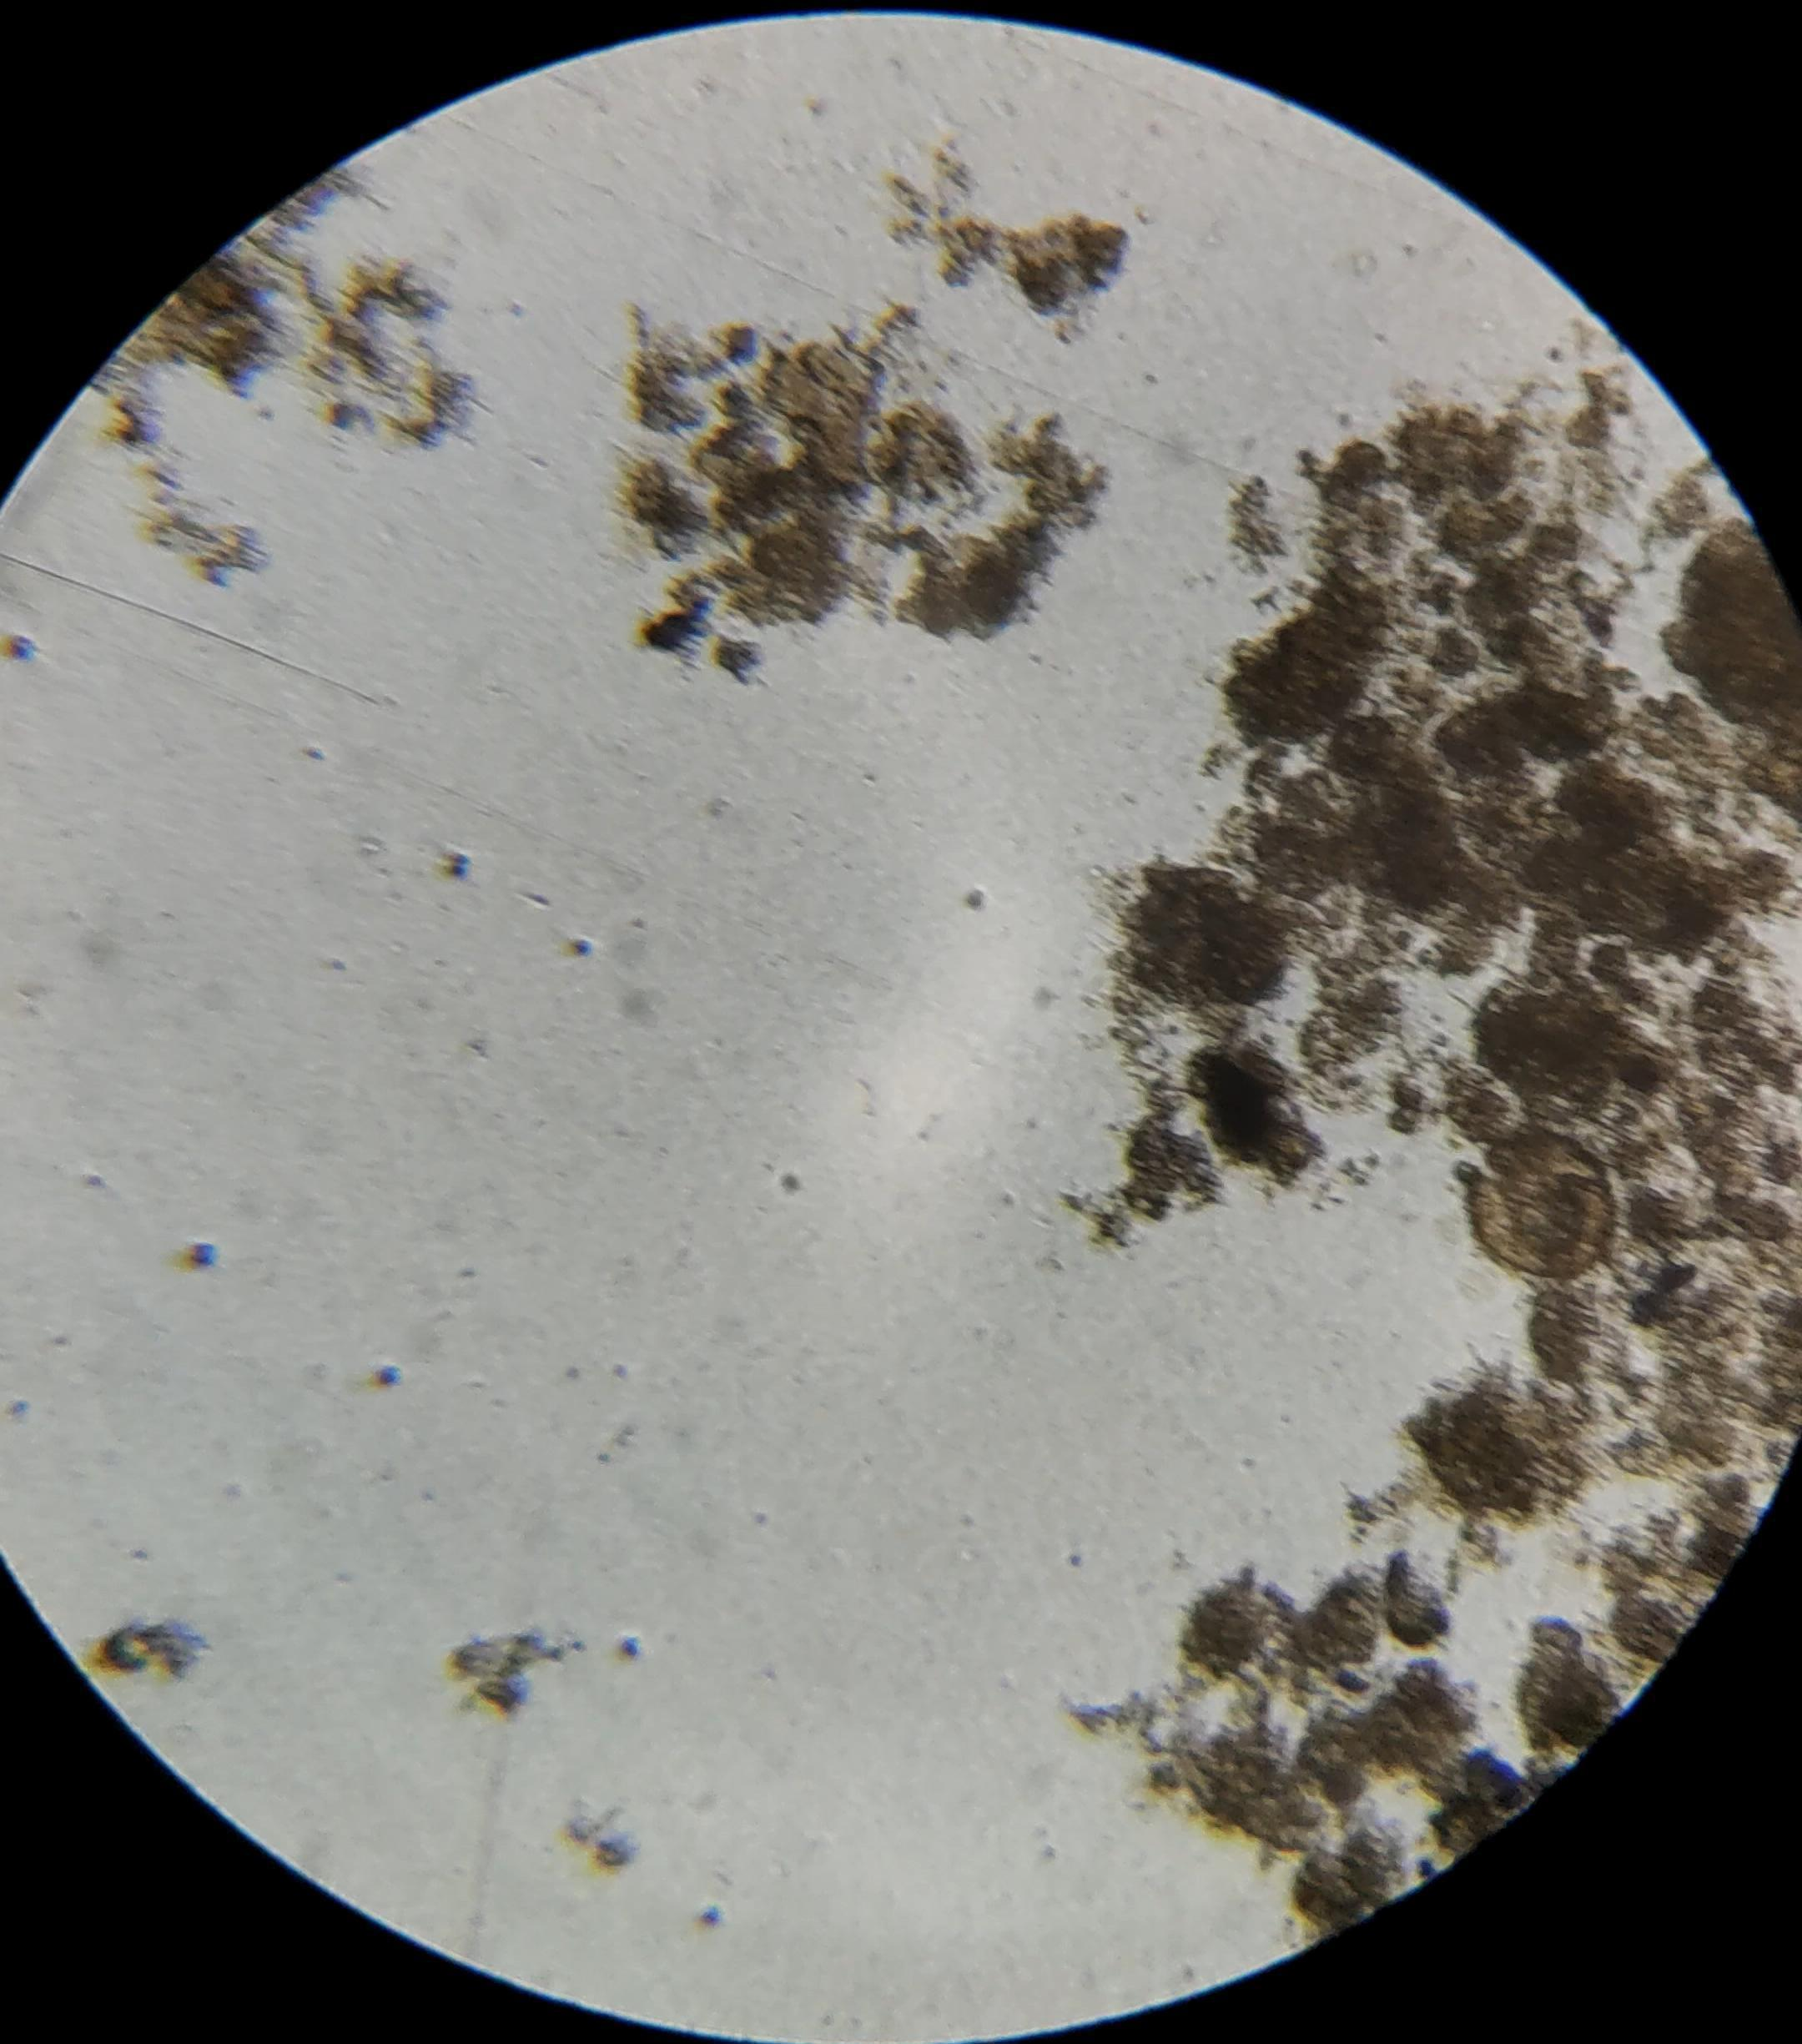Arcella: (1472, 1132, 1611, 1280)
